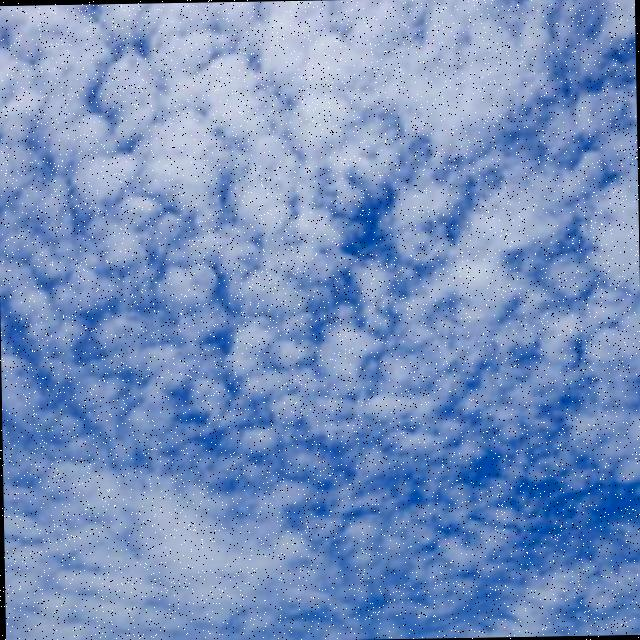Cc: (1, 40, 640, 640)
